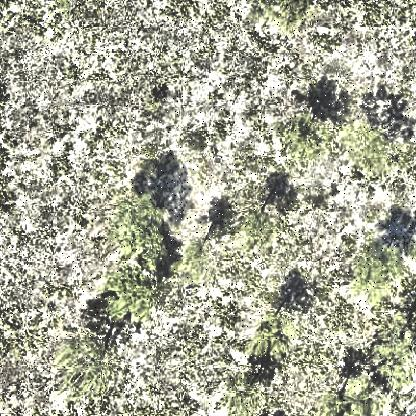tree-top: (110, 193, 176, 268), (343, 246, 405, 304), (275, 110, 332, 163), (100, 272, 158, 324), (343, 122, 394, 171), (244, 316, 296, 362), (236, 210, 278, 252)
